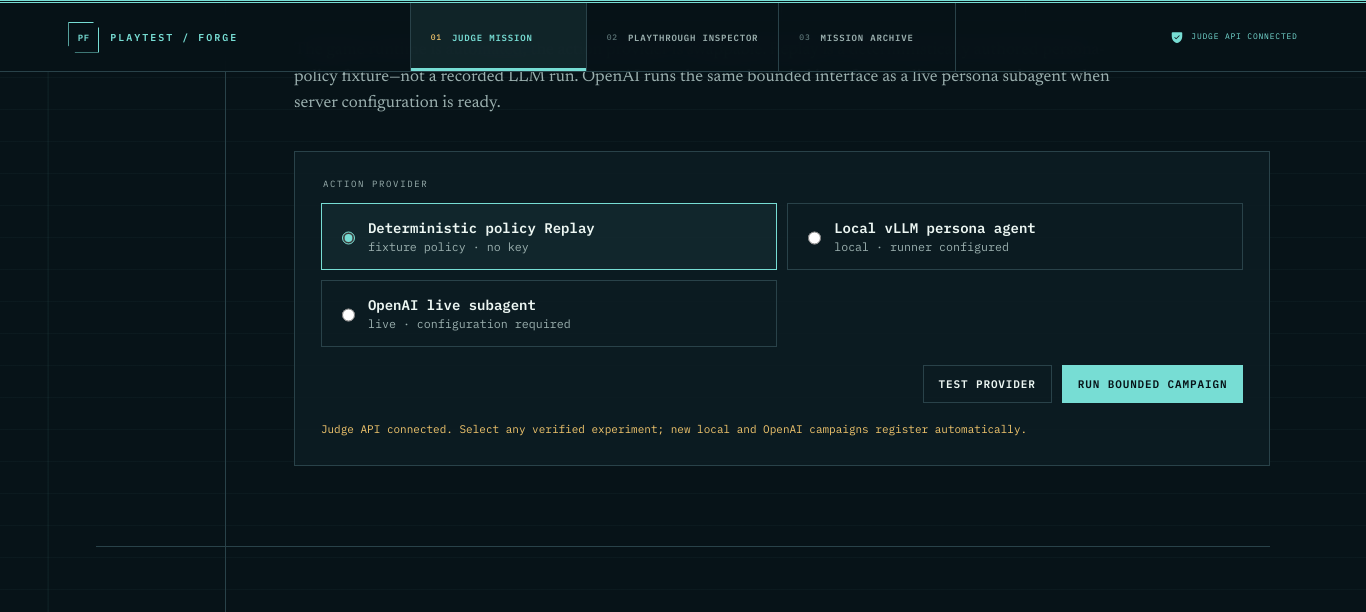
Test: application routes › runs the bounded Replay action from Judge Mode
This screenshot has width=1366, height=612.
(page scrolled)
Click the button "Run bounded campaign": (1153, 384) [1062, 365, 1243, 403]
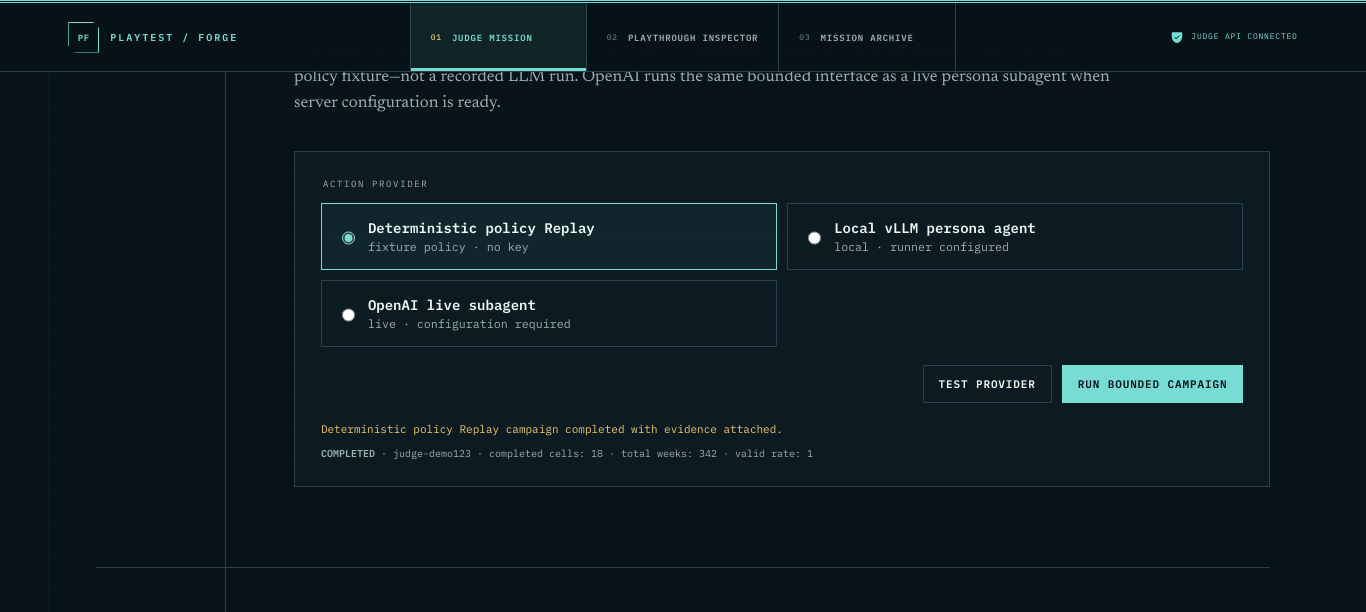
Expected: the text "Deterministic policy Replay campaign completed with evidence attached." is shown, [321, 422, 783, 436]
Expected: the text "judge-demo123" is shown, [393, 447, 471, 460]
